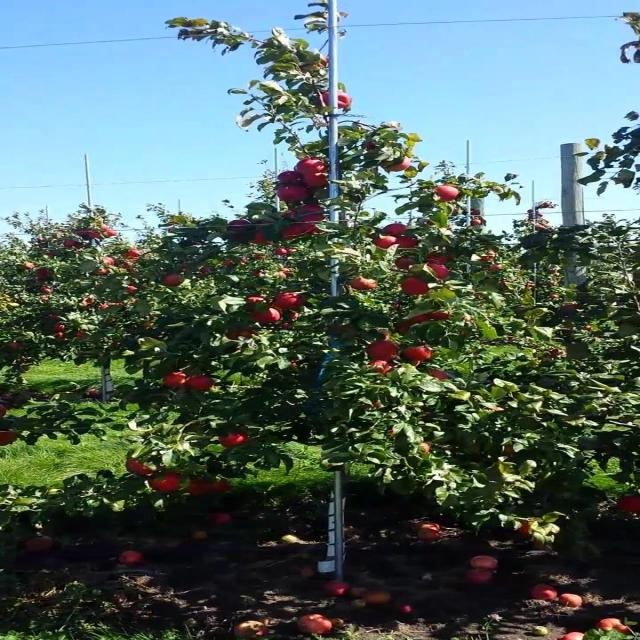apple: (367, 340, 400, 360), (278, 184, 311, 203), (149, 472, 180, 492), (273, 292, 304, 310), (124, 458, 156, 475), (400, 345, 433, 361), (296, 158, 327, 175), (400, 278, 429, 295), (300, 51, 327, 69), (382, 156, 411, 172), (187, 375, 216, 391), (187, 479, 213, 496), (220, 432, 249, 447), (251, 308, 280, 323), (282, 222, 307, 239), (618, 495, 640, 514), (436, 184, 460, 201), (349, 276, 378, 290), (162, 371, 187, 387), (291, 221, 321, 234), (303, 173, 329, 188), (160, 272, 184, 287), (382, 222, 407, 236), (373, 235, 398, 249), (427, 262, 447, 279), (396, 235, 420, 249), (369, 360, 393, 374), (278, 170, 302, 184), (282, 224, 304, 239), (227, 328, 256, 339), (278, 171, 302, 184), (0, 430, 18, 446), (427, 252, 451, 264), (298, 211, 324, 222), (211, 480, 231, 494), (251, 231, 271, 245), (300, 211, 324, 222), (298, 204, 324, 214), (396, 320, 413, 335), (427, 369, 449, 380), (298, 221, 318, 233), (338, 91, 351, 108), (518, 522, 531, 538), (418, 441, 431, 456), (396, 258, 413, 268), (376, 328, 389, 341), (362, 141, 378, 151), (229, 219, 251, 226), (320, 92, 329, 106), (247, 296, 264, 303), (284, 210, 296, 216)
